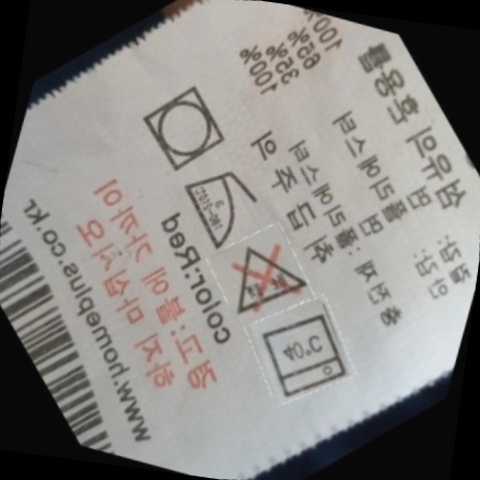40C: (236, 292, 363, 416)
iron_high: (162, 146, 268, 258)
non_chlorine_bleach: (207, 221, 319, 333)
tumble_dry_normal: (115, 59, 247, 196)
